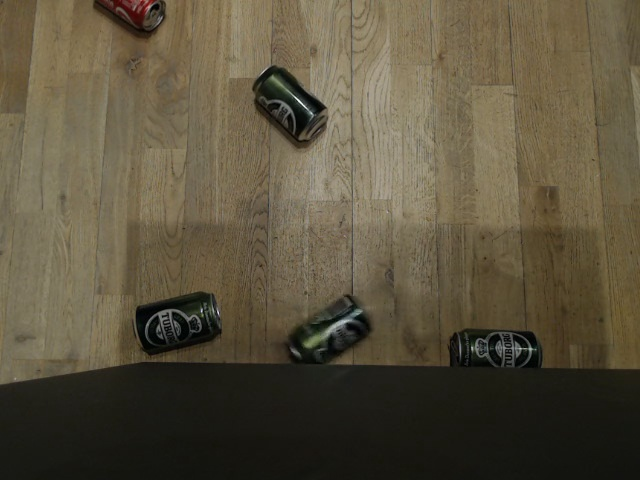beer: (250, 62, 335, 147), (283, 285, 373, 364), (130, 292, 223, 355), (446, 325, 547, 369)
cola: (87, 0, 167, 35)
